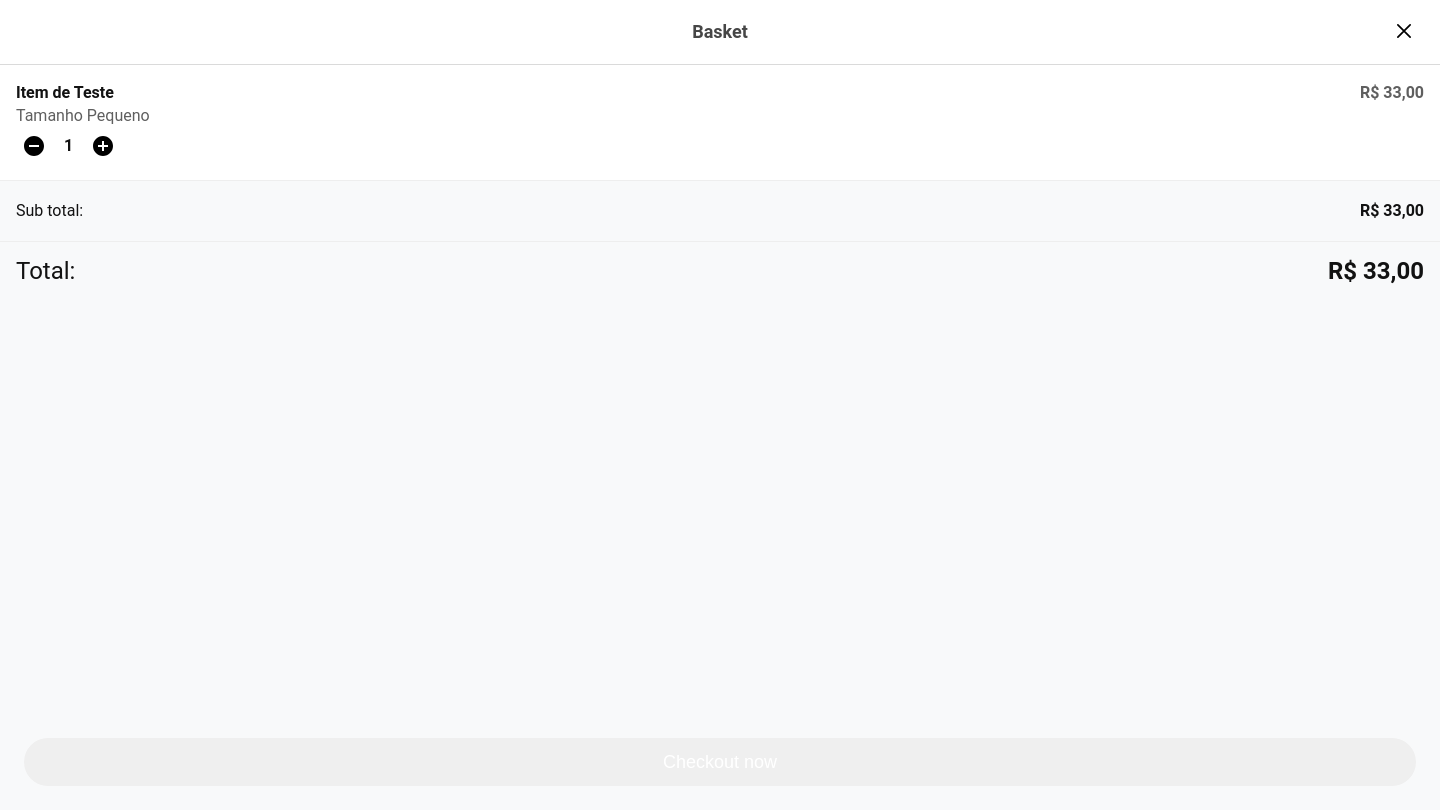
<CartMobile /> › deve remover um item do carrinho
The width and height of the screenshot is (1440, 810).
Click the button with test id "decrement-button" at x=34, y=146, box [16, 133, 52, 159]
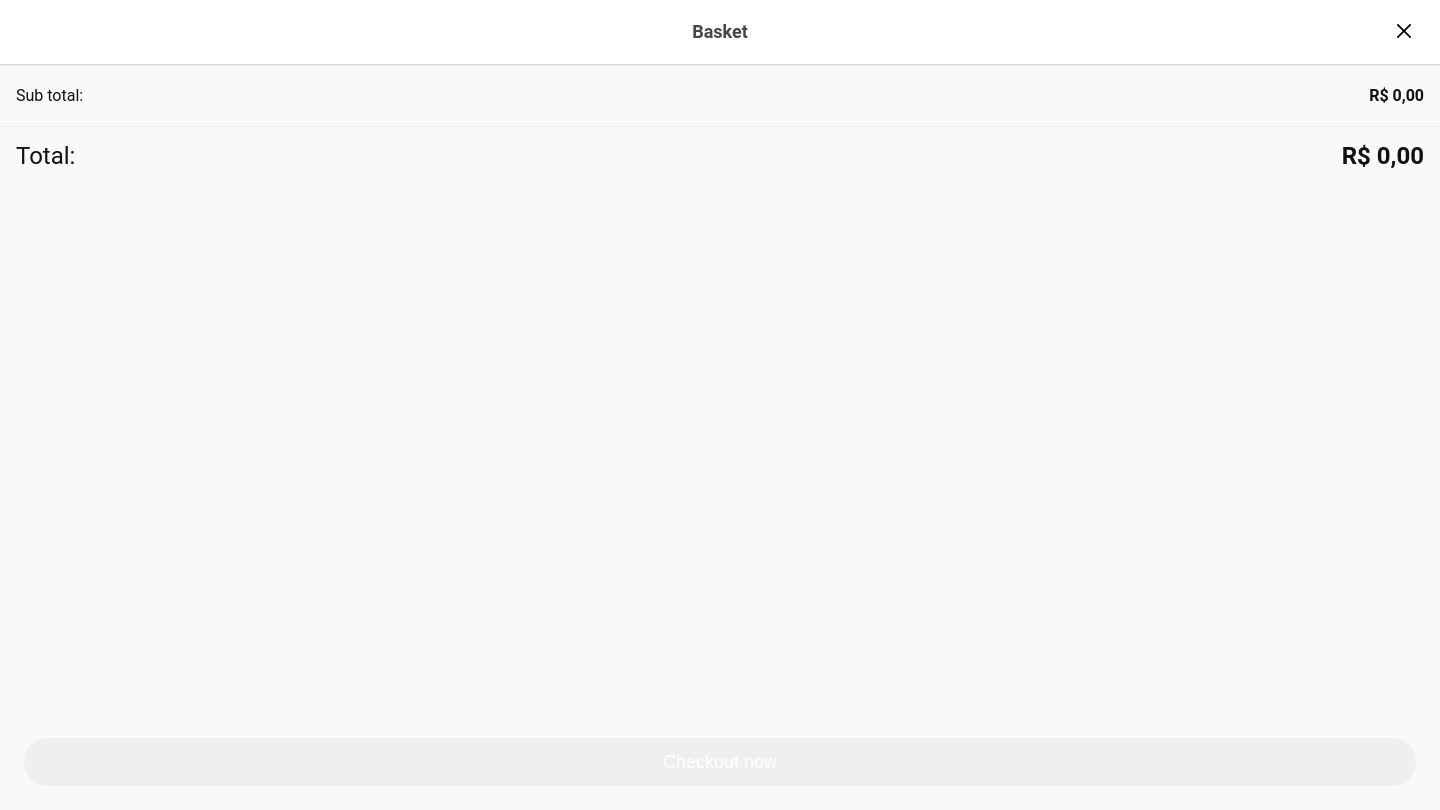
Expected: the text "Item de Teste" is gone
